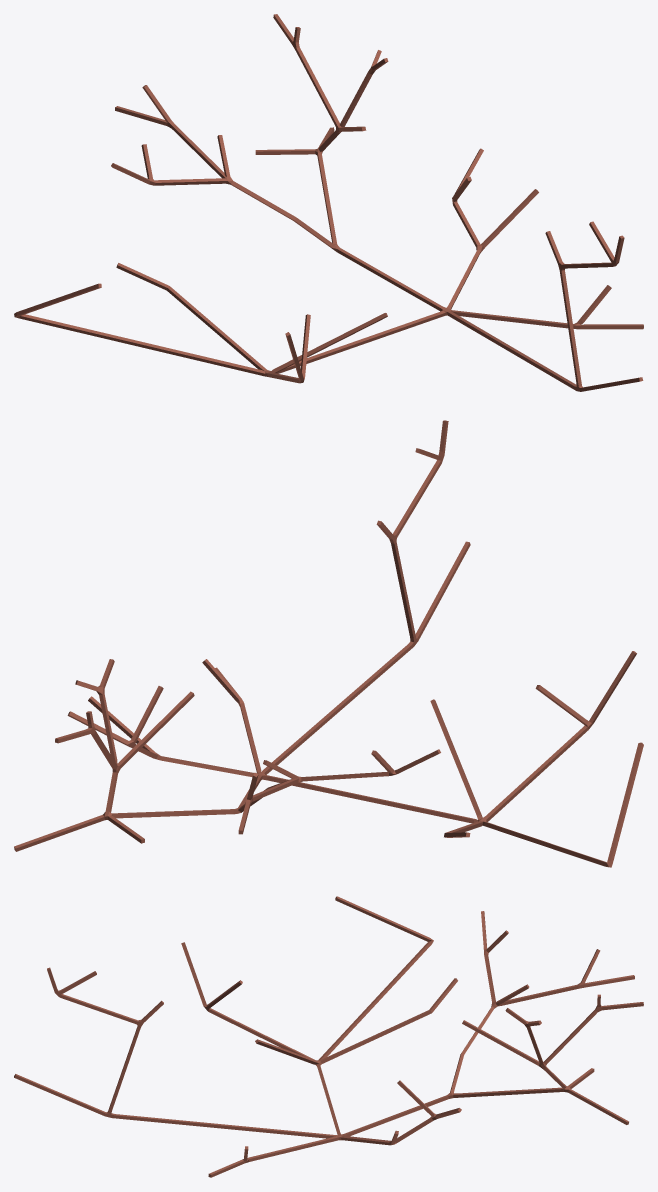
File: surface plant.fbx
The picture shows the model from 3 angles, top to bottom: view 1: azimuth 30°, elevation 25°; view 2: azimuth 150°, elevation 25°; view 3: azimuth 270°, elevation 25°; orthographic projection. The views are drawn at different scales.
Visible parts, largest first — view 1: Plane; view 2: Plane; view 3: Plane.
Boxes of the visible parts, <box> form: Plane: <box>14,14,643,391</box>; Plane: <box>14,420,643,867</box>; Plane: <box>14,896,643,1177</box>.
Bounding box in the file's own units: 599 × 239 × 771.
